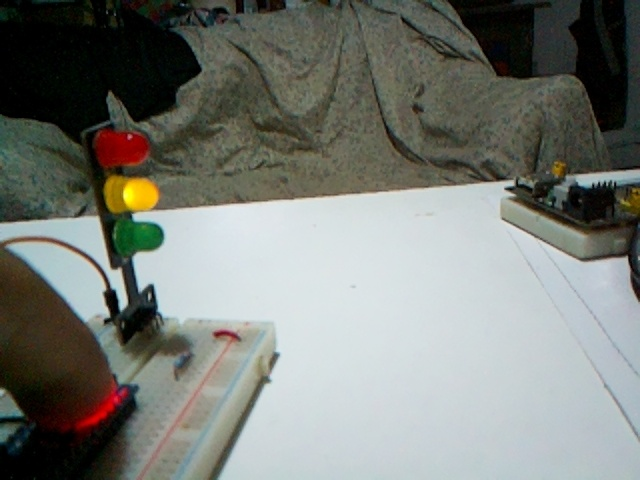traffic_light_yellow: (82, 122, 164, 341)
